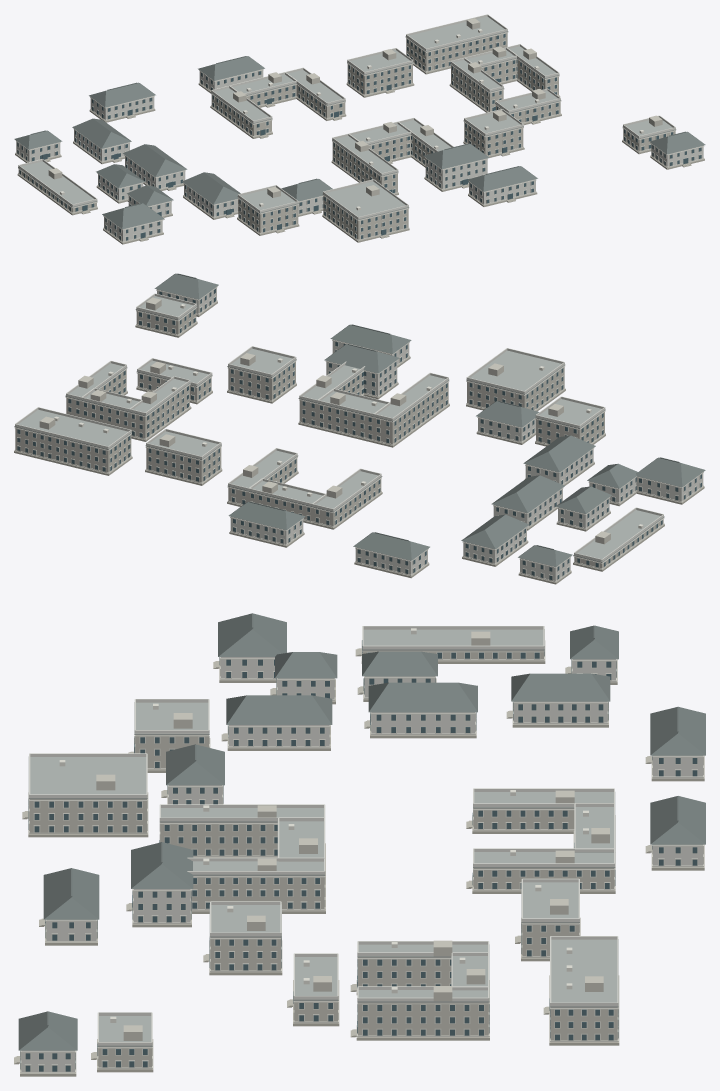
3 views of the same model, one above another, from view 1: azimuth 30°, elevation 25°; view 2: azimuth 150°, elevation 25°; view 3: azimuth 270°, elevation 25° (orthographic). The views are drawn at different scales.
Parts seen in each view (by area): view 1: Weathered flat roof details.004, Window frames and coping details.004, Dark blue grey glazing details.004, Pale limestone details.004, Walkway stone details.004, Warm ivory plaster details.004, 力学实验室.001, 兴业光学楼.001, 简公堂（200号） hipped tiled roof.001, 相伯堂 hipped tiled roof.001, 电光源研究所.001, 景莱堂（300号） hipped tiled roof.001 (+31 smaller); view 2: Weathered flat roof details.004, Window frames and coping details.004, Dark blue grey glazing details.004, Pale limestone details.004, Walkway stone details.004, Warm ivory plaster details.004, 兴业光学楼.001, 简公堂（200号） hipped tiled roof.001, 相伯堂 hipped tiled roof.001, 力学实验室.001, 外事处 · 西翼.001, 景莱堂（300号） hipped tiled roof.001 (+32 smaller); view 3: Weathered flat roof details.004, Window frames and coping details.004, Pale limestone details.004, Dark blue grey glazing details.004, Walkway stone details.004, Warm ivory plaster details.004, 第一教学楼 · 东翼.001, 简公堂（200号） hipped tiled roof.001, 相伯堂 hipped tiled roof.001, 力学实验室.001, 外事处 · 东翼.001, 景莱堂（300号） hipped tiled roof.001 (+32 smaller).
Part boxes in pixels (x1,y1,x2,y2): Weathered flat roof details.004: (18,16,676,219); Window frames and coping details.004: (15,29,704,242); Dark blue grey glazing details.004: (17,34,701,240); Pale limestone details.004: (18,14,675,219); Walkway stone details.004: (15,63,704,244); Warm ivory plaster details.004: (48,18,662,197); 力学实验室.001: (323,196,408,240); 兴业光学楼.001: (406,32,507,72); 简公堂（200号） hipped tiled roof.001: (123,144,187,177); 相伯堂 hipped tiled roof.001: (182,172,240,204); 电光源研究所.001: (347,63,412,95); 景莱堂（300号） hipped tiled roof.001: (72,118,131,148); Weathered flat roof details.004: (14,296,664,562); Window frames and coping details.004: (14,286,703,581); Dark blue grey glazing details.004: (17,289,701,579); Pale limestone details.004: (15,293,663,561); Walkway stone details.004: (14,301,704,584); Warm ivory plaster details.004: (39,297,610,544); 兴业光学楼.001: (15,427,131,473); 简公堂（200号） hipped tiled roof.001: (491,475,564,512); 相伯堂 hipped tiled roof.001: (523,435,595,472); 力学实验室.001: (467,367,564,409); 外事处 · 西翼.001: (374,382,448,445); 景莱堂（300号） hipped tiled roof.001: (461,514,529,549); Weathered flat roof details.004: (28,629,618,1046); Window frames and coping details.004: (20,628,703,1072); Pale limestone details.004: (29,626,618,1045); Dark blue grey glazing details.004: (20,640,697,1071); Walkway stone details.004: (14,640,704,1076); Warm ivory plaster details.004: (96,631,609,1040); 第一教学楼 · 东翼.001: (358,1002,488,1037); 简公堂（200号） hipped tiled roof.001: (368,682,477,712); 相伯堂 hipped tiled roof.001: (226,695,332,724); 力学实验室.001: (29,799,146,833); 外事处 · 东翼.001: (191,876,324,910); 景莱堂（300号） hipped tiled roof.001: (511,673,610,701).
Bounding box in the file's own units: 245 × 14.7 × 165.
